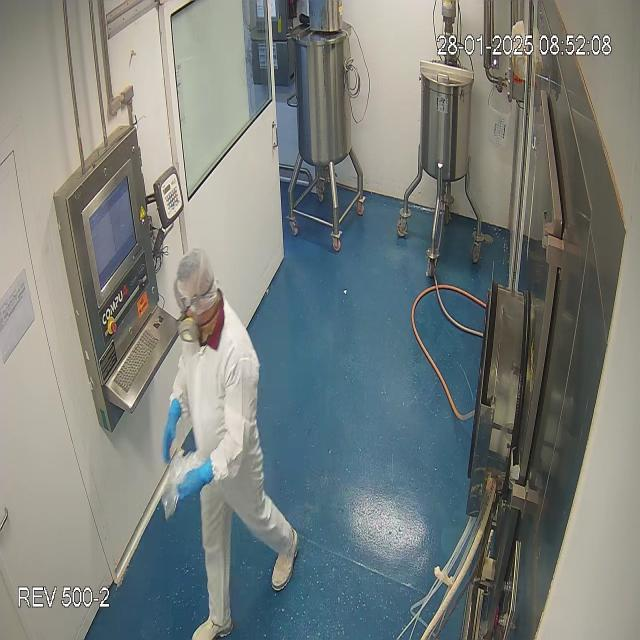bota: (192, 528, 299, 640)
pessoa: (160, 251, 299, 639)
touca: (174, 250, 220, 323)
